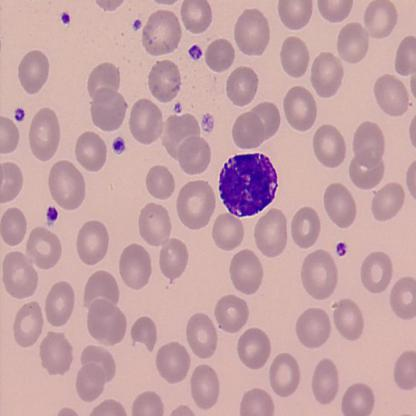Basophil: (217, 149, 280, 219)
